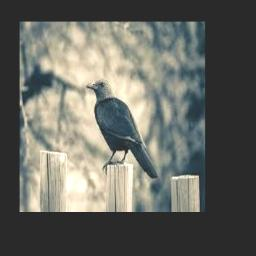Crow: (86, 78, 160, 179)
